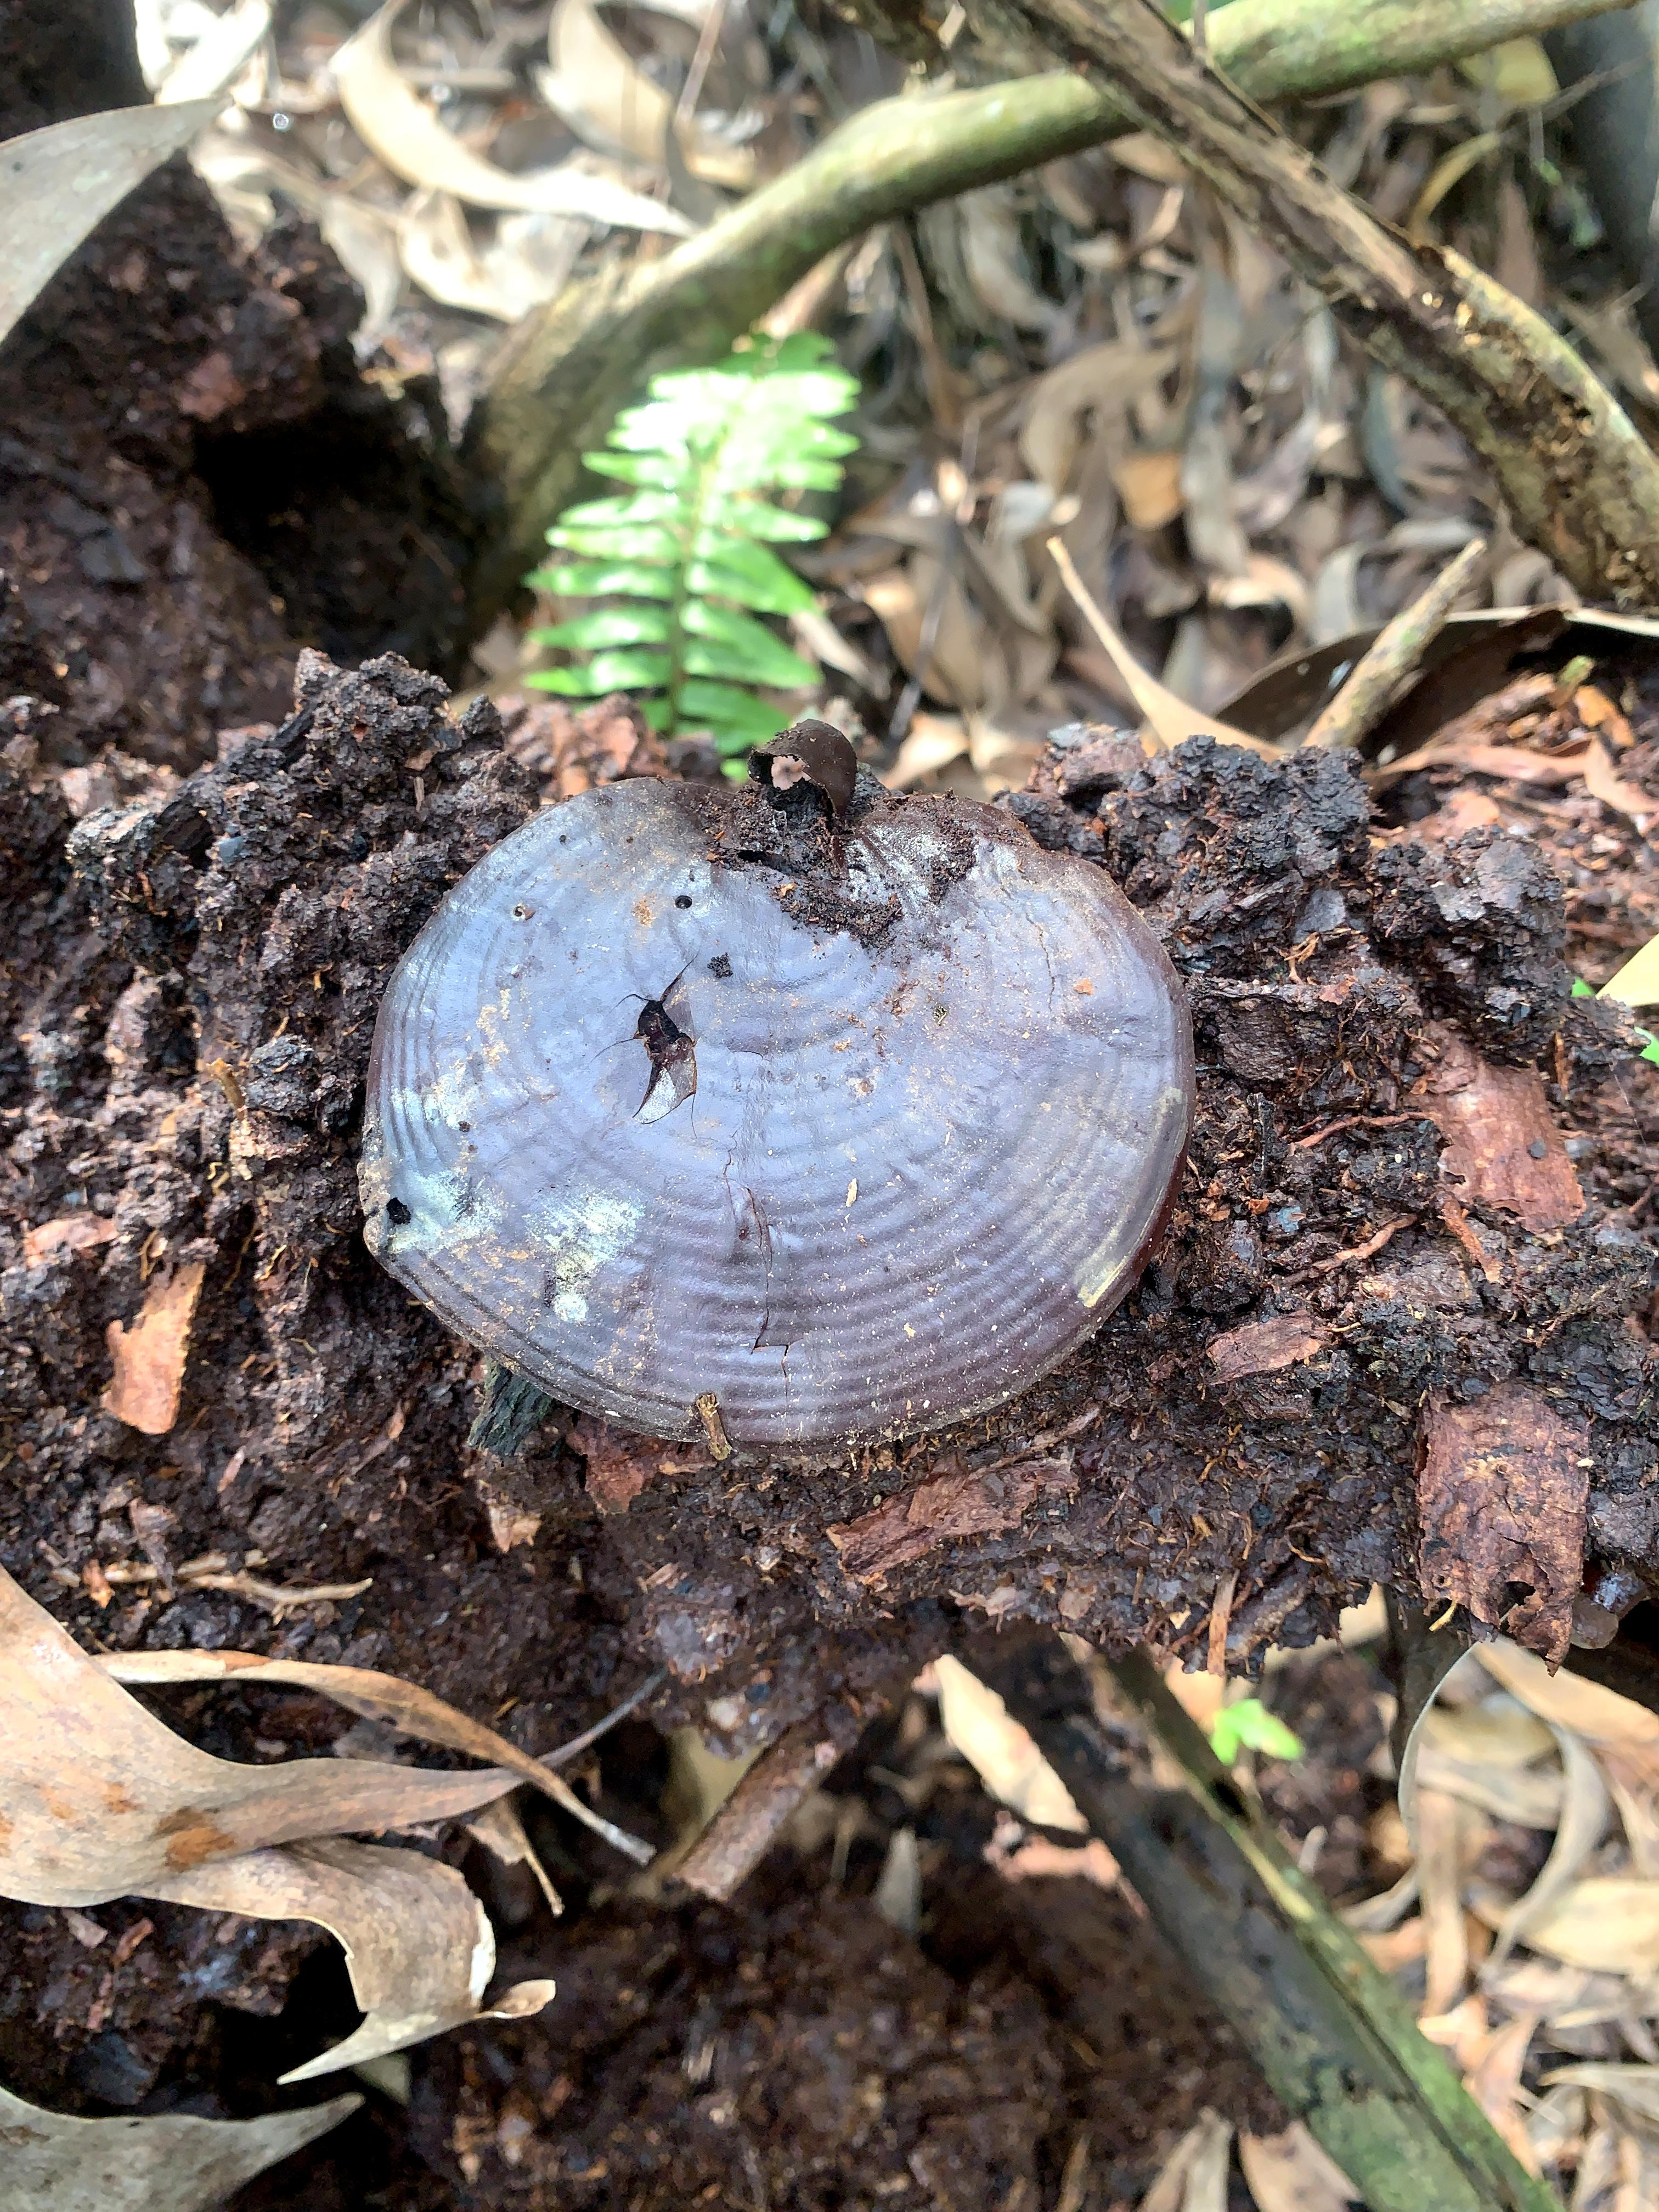Ganoderma - Fruit Body: (331, 789, 1209, 1449)
